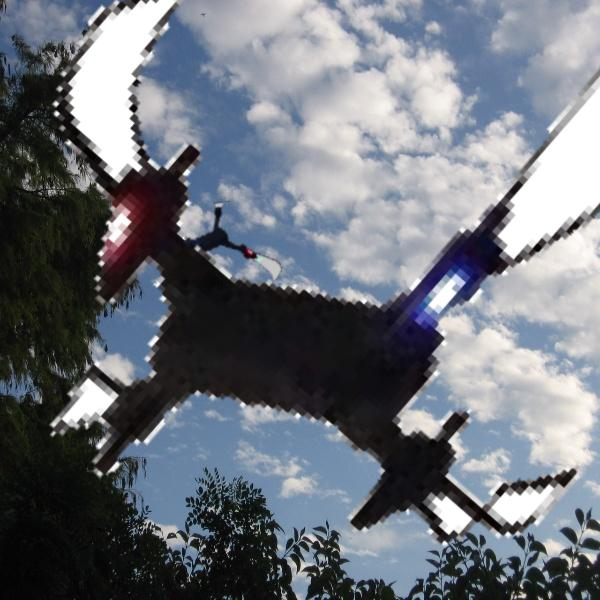drone: (154, 196, 275, 317)
